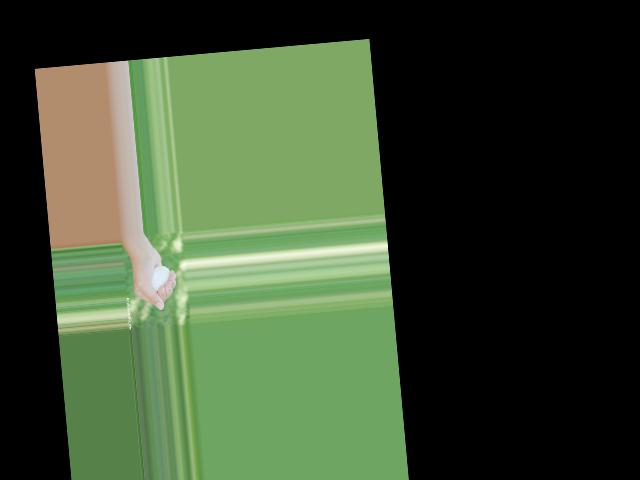egg: (150, 265, 171, 292)
